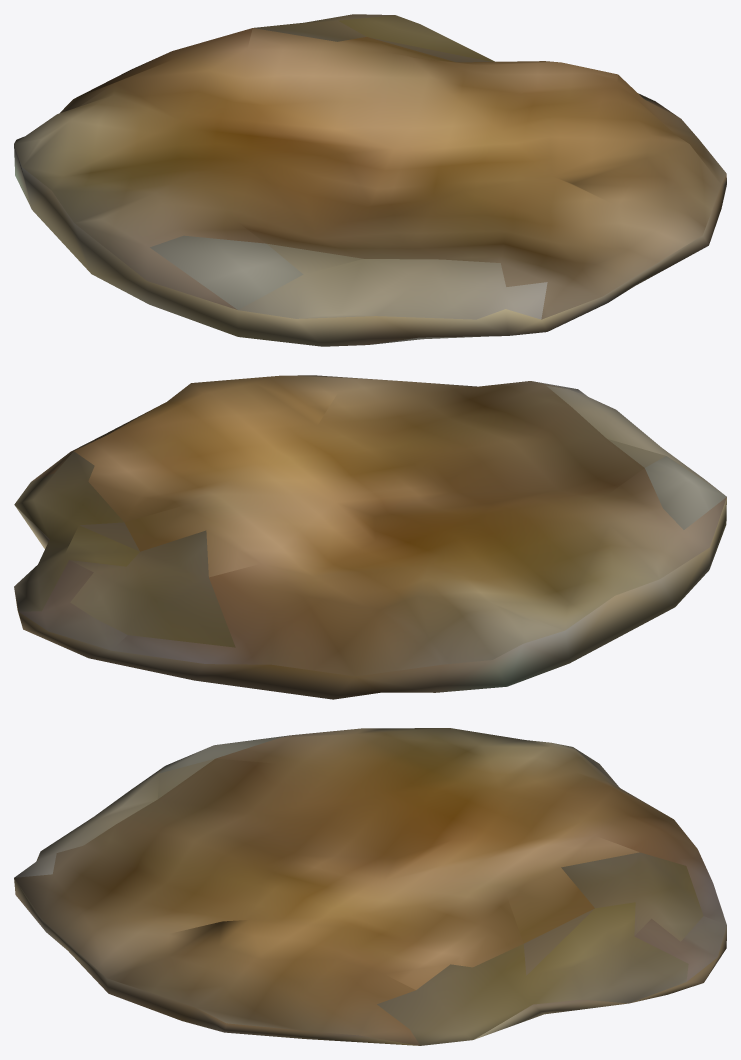
File: sauce-burger.glb
The picture shows the model from 3 angles, top to bottom: view 1: azimuth 30°, elevation 25°; view 2: azimuth 150°, elevation 25°; view 3: azimuth 270°, elevation 25°; orthographic projection. The views are drawn at different scales.
Parts seen in each view (by area): view 1: sauce-burger; view 2: sauce-burger; view 3: sauce-burger.
Part boxes in pixels (x1,y1,x2,y2): sauce-burger: (14,14,726,346); sauce-burger: (14,375,726,699); sauce-burger: (14,728,726,1045).
Bounding box in the file's own units: 6.26 × 0.8681 × 6.7.
3 materials, 2 textured.
